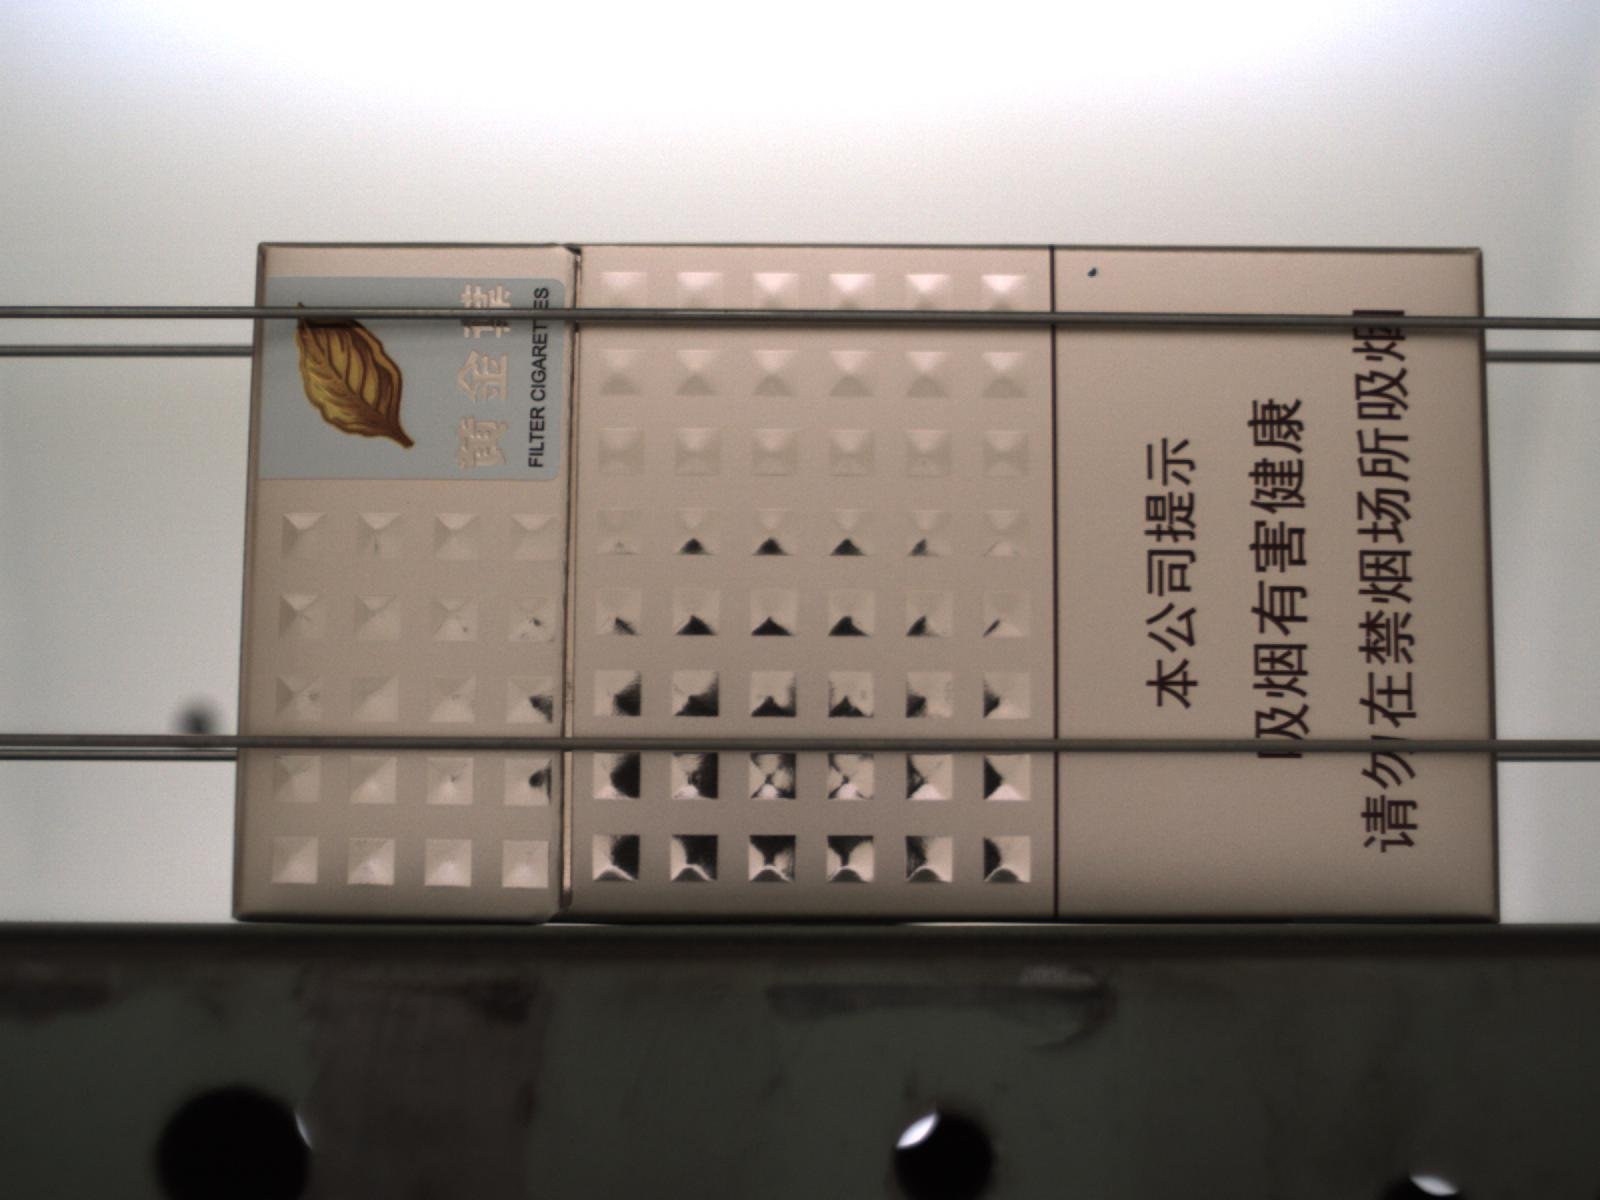dirtyOil: (1086, 267, 1099, 279)
